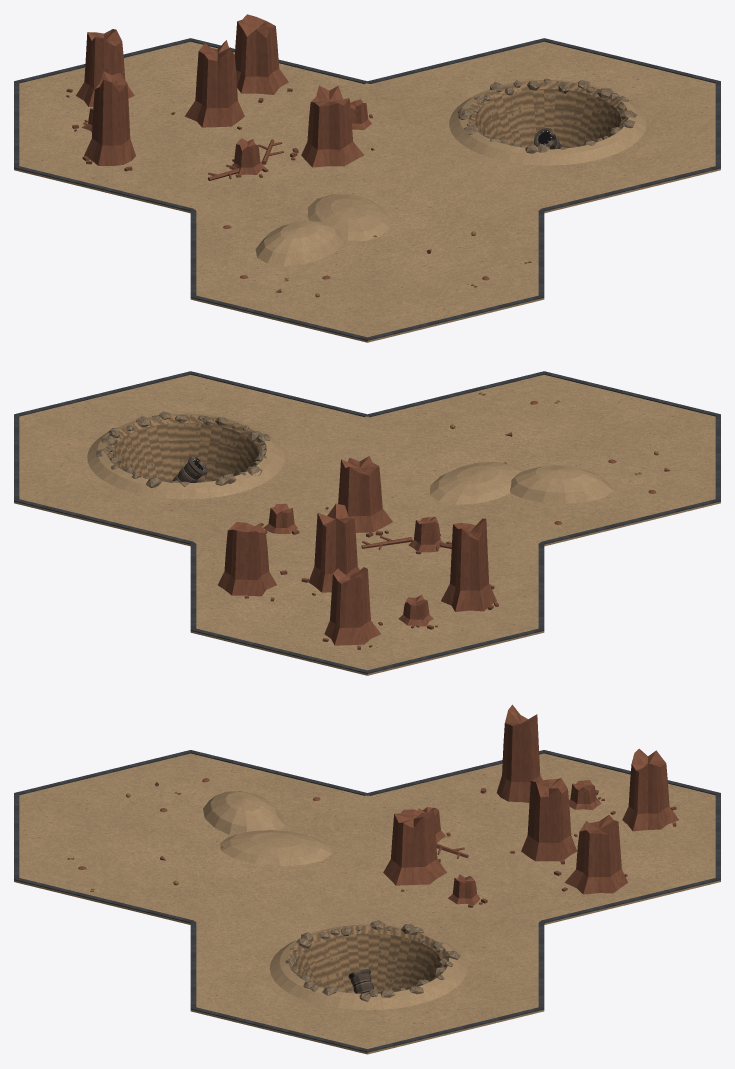
The model's file is WasteHex_Tri3.glb.
3 renders of one model, top to bottom at view 1: azimuth 30°, elevation 25°; view 2: azimuth 150°, elevation 25°; view 3: azimuth 270°, elevation 25°, orthographic.
Visible parts, largest first — view 1: WasteHex_Tri3_Ground, WasteHex_Tri3_Prop_Petrified, WasteHex_Tri3_GroundTrim, WasteHex_Tri3_Prop_PitWall, WasteHex_Tri3_Prop_Drift, WasteHex_Tri3_Prop_PitRim, WasteHex_Tri3_Prop_Rock; view 2: WasteHex_Tri3_Ground, WasteHex_Tri3_Prop_Petrified, WasteHex_Tri3_GroundTrim, WasteHex_Tri3_Prop_PitWall, WasteHex_Tri3_Prop_Drift, WasteHex_Tri3_Prop_PitRim, WasteHex_Tri3_Prop_Rock, WasteHex_Tri3_Worm; view 3: WasteHex_Tri3_Ground, WasteHex_Tri3_Prop_Petrified, WasteHex_Tri3_GroundTrim, WasteHex_Tri3_Prop_PitWall, WasteHex_Tri3_Prop_Drift, WasteHex_Tri3_Prop_PitRim, WasteHex_Tri3_Prop_Rock.
Part boxes in pixels (x1,y1,x2,y2): WasteHex_Tri3_Ground: (14,41,720,342); WasteHex_Tri3_Prop_Petrified: (66,14,374,177); WasteHex_Tri3_GroundTrim: (14,38,720,340); WasteHex_Tri3_Prop_PitWall: (468,81,628,148); WasteHex_Tri3_Prop_Drift: (255,194,390,265); WasteHex_Tri3_Prop_PitRim: (449,80,646,165); WasteHex_Tri3_Prop_Rock: (457,78,636,153); WasteHex_Tri3_Ground: (14,374,720,675); WasteHex_Tri3_Prop_Petrified: (218,456,498,649); WasteHex_Tri3_GroundTrim: (14,371,720,673); WasteHex_Tri3_Prop_PitWall: (105,415,266,482); WasteHex_Tri3_Prop_Drift: (429,461,612,504); WasteHex_Tri3_Prop_PitRim: (87,413,284,499); WasteHex_Tri3_Prop_Rock: (96,411,270,487); WasteHex_Tri3_Worm: (168,456,207,482); WasteHex_Tri3_Ground: (14,753,720,1054); WasteHex_Tri3_Prop_Petrified: (383,704,678,907); WasteHex_Tri3_GroundTrim: (14,750,720,1052); WasteHex_Tri3_Prop_PitWall: (288,925,449,992); WasteHex_Tri3_Prop_Drift: (203,791,331,865); WasteHex_Tri3_Prop_PitRim: (269,924,467,1010); WasteHex_Tri3_Prop_Rock: (285,920,460,1001).
Size of the model in its own units: 21 by 4.54 by 20.78.
11 materials, 11 textured.
